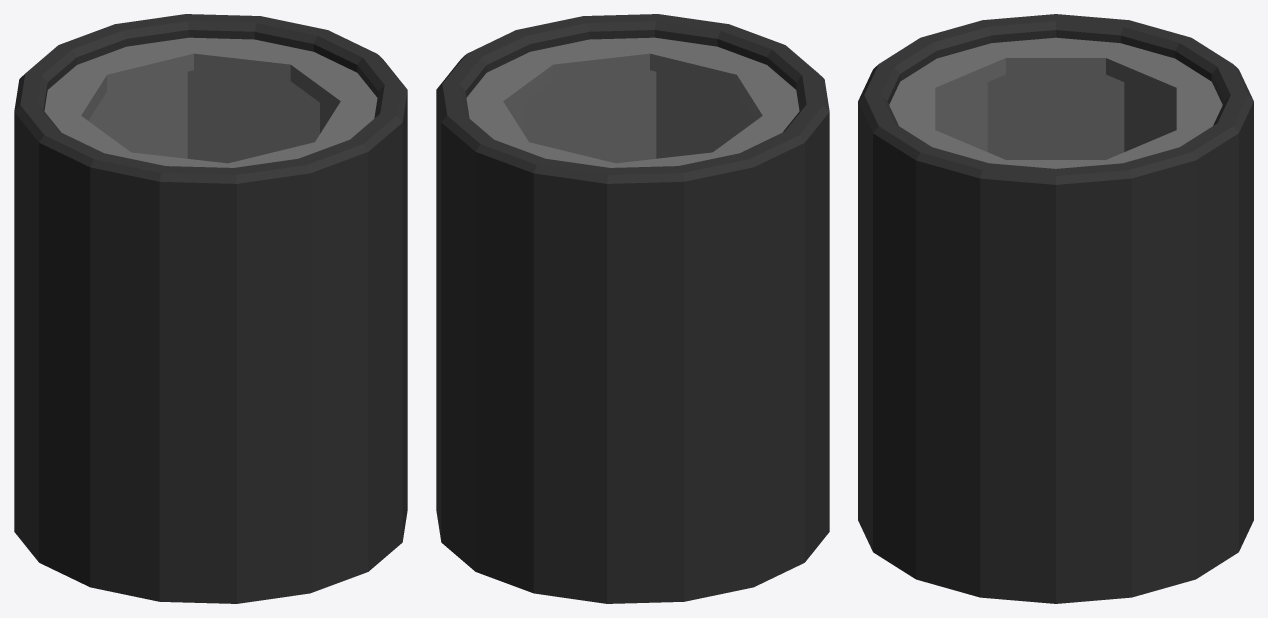
Rendered from bin1.fbx.
3 renders of one model, left to right at view 1: azimuth 30°, elevation 25°; view 2: azimuth 150°, elevation 25°; view 3: azimuth 270°, elevation 25°, orthographic.
Visible parts, largest first — view 1: Cylinder; view 2: Cylinder; view 3: Cylinder.
Boxes of the visible parts, <box> form: Cylinder: <box>14,14,407,603</box>; Cylinder: <box>436,14,829,603</box>; Cylinder: <box>858,14,1253,603</box>.
Bounding box in the file's own units: 85.63 × 101 × 85.63.
